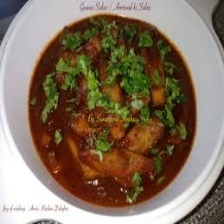sabzi: (27, 15, 196, 208)
